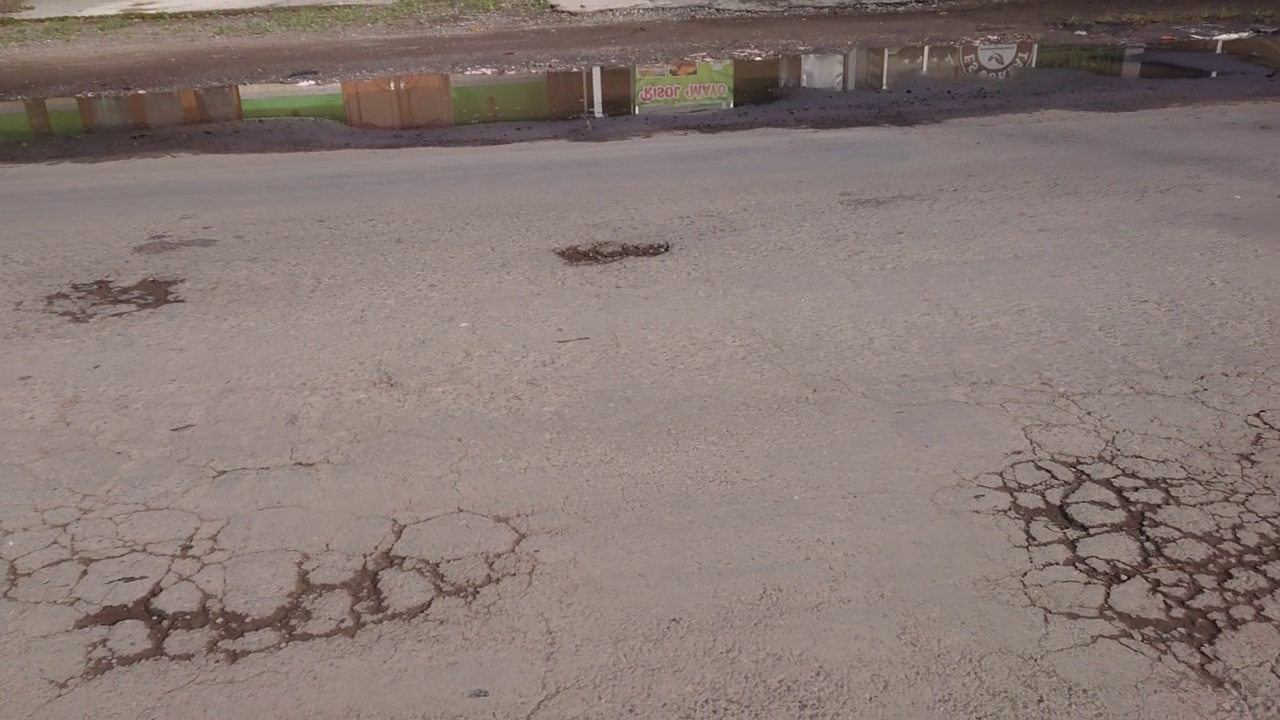Retak: (993, 407, 1280, 708), (68, 517, 523, 677), (30, 268, 202, 329), (529, 237, 678, 269)
